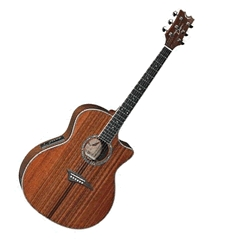guitar: (18, 8, 195, 231)
